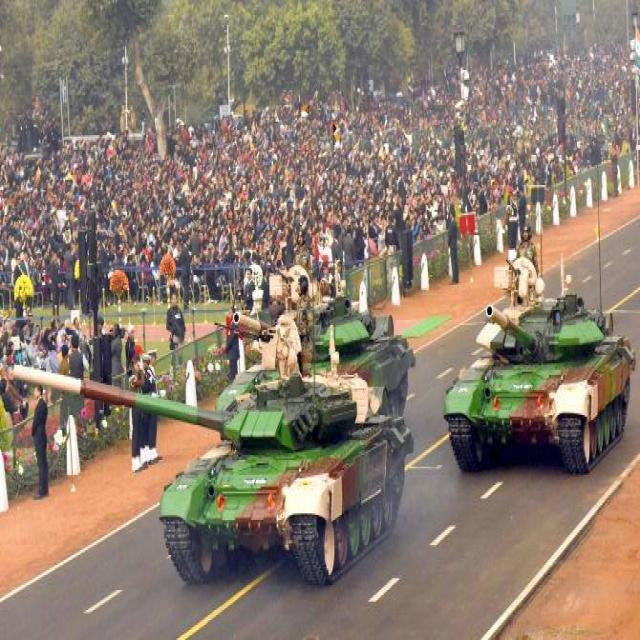Tanks: (131, 283, 417, 569), (443, 272, 634, 475)
